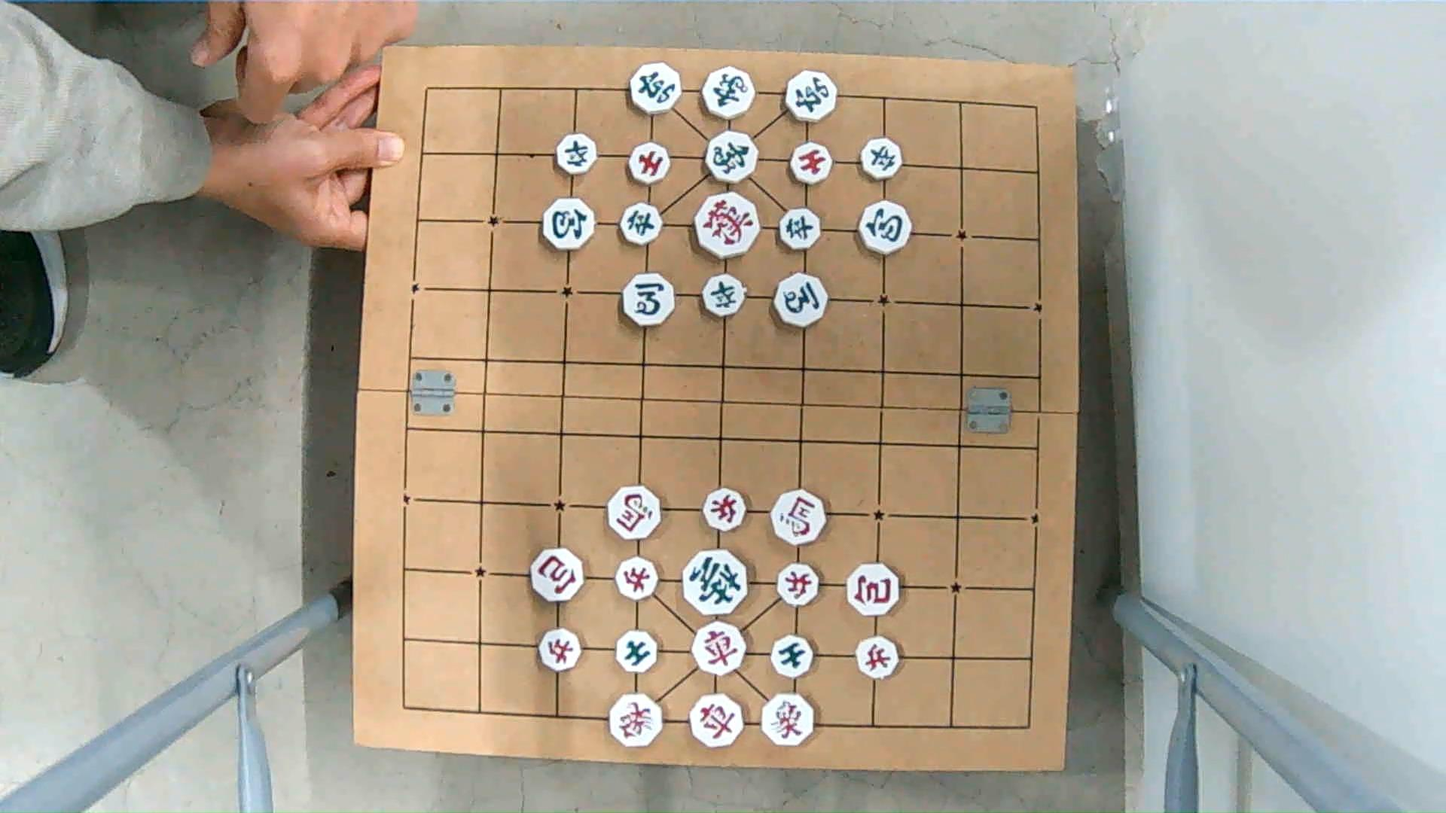cha_green: (627, 64, 686, 114), (783, 73, 841, 120)
cha_red: (685, 696, 746, 745), (691, 626, 752, 674)
jol_green: (621, 205, 666, 246), (779, 209, 827, 247), (703, 273, 746, 314), (860, 141, 907, 178), (553, 135, 598, 172)
jol_red: (612, 559, 663, 597), (703, 487, 748, 530), (852, 637, 901, 675), (538, 633, 586, 671), (775, 564, 823, 602)
ma_green: (618, 276, 677, 324), (773, 275, 831, 323)
ma_red: (771, 494, 831, 544), (603, 488, 664, 536)
po_green: (860, 204, 917, 253), (538, 201, 595, 250)
po_red: (844, 565, 901, 614), (529, 553, 587, 601)
sa_green: (770, 638, 818, 678), (614, 633, 661, 672)
sa_red: (627, 142, 673, 183), (788, 145, 836, 182)
sang_green: (702, 132, 759, 181), (700, 67, 758, 114)
sang_red: (758, 696, 818, 744), (606, 696, 665, 744)
wang_green: (682, 554, 753, 614)
wang_red: (691, 197, 761, 252)
